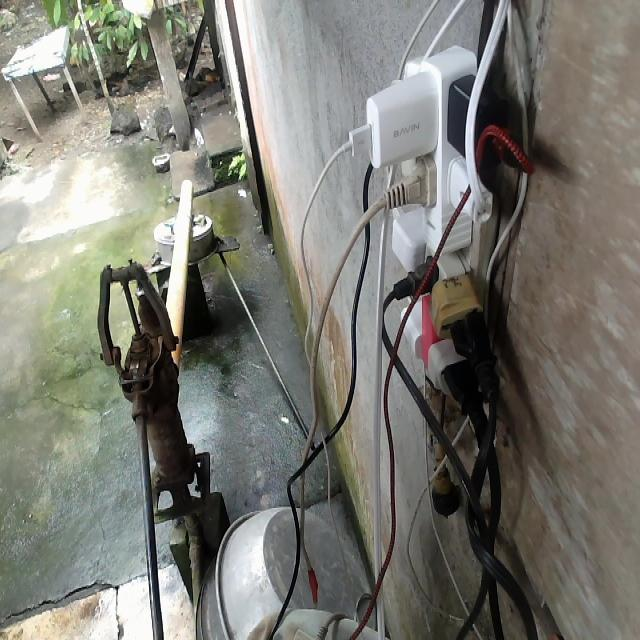-: (340, 38, 517, 394)
